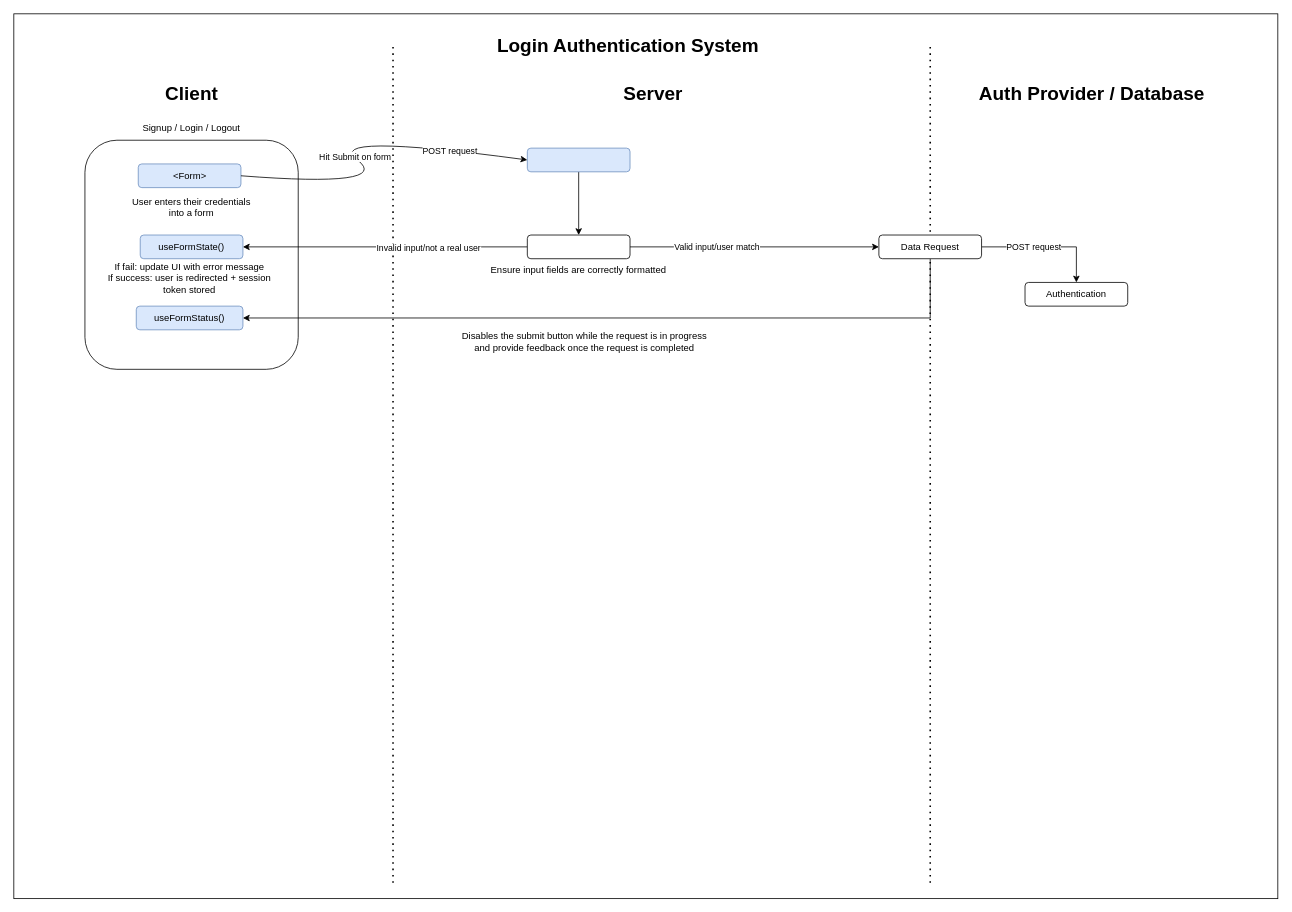
This 1292x912 diagram has some shape labels left out. Here are the shapes that lost their labels. From the top down, the centre of each, then its label:
point (578, 159): Server Action
point (578, 246): Form Validation
